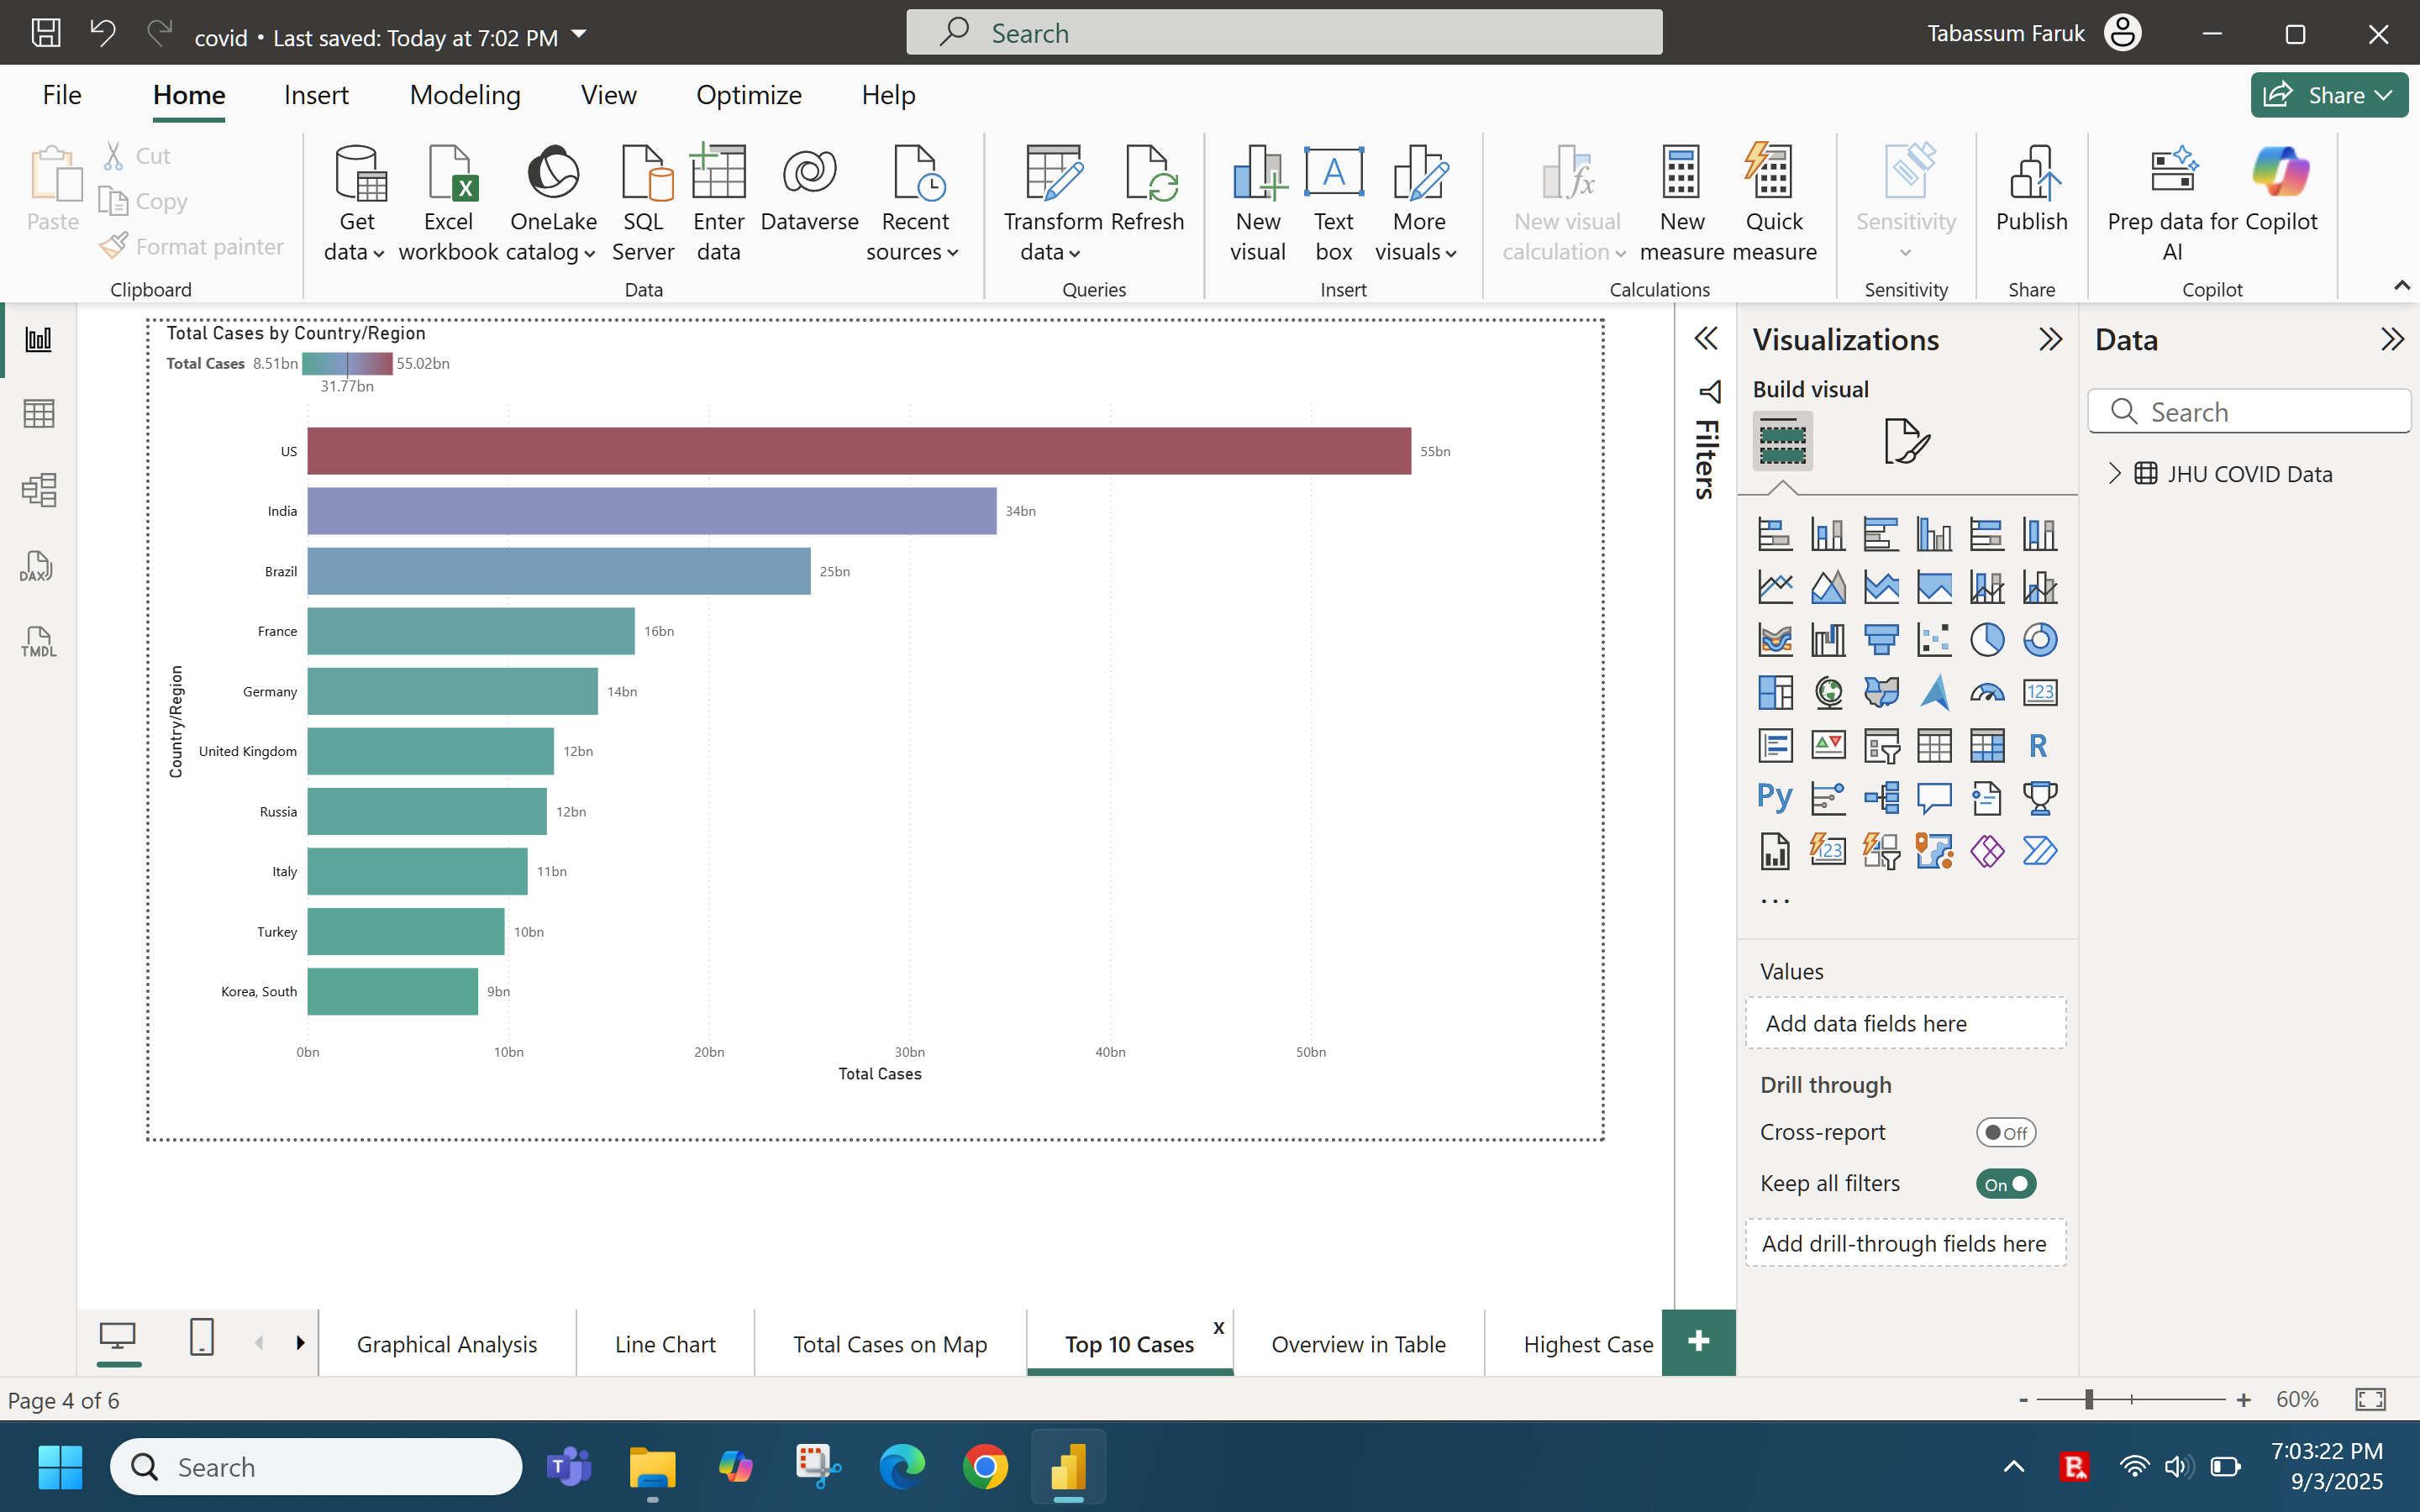

Layout of this report page (visuals, bound fields, positions):
{"tool":"powerbi","page":{"name":"Top 10 Cases","canvas":[1280,720],"ordinal":3},"visuals":[{"type":"clusteredBarChart","fields":{"Category":["JHU COVID Data.Country/Region"],"Y":["JHU COVID Data.Total Cases"]},"box":[10.6,0,1158.1,676],"z":0}]}

Visuals, with their boxes on the page's 1280x720 design canvas (x1, y1, x2, y2). These are canvas units, not pixel positions in the 2420x1512 screenshot, which may show the page scaled, cropped or inside an application window:
clusteredBarChart - JHU COVID Data.Country/Region x JHU COVID Data.Total Cases: rect(11, 0, 1169, 676)
